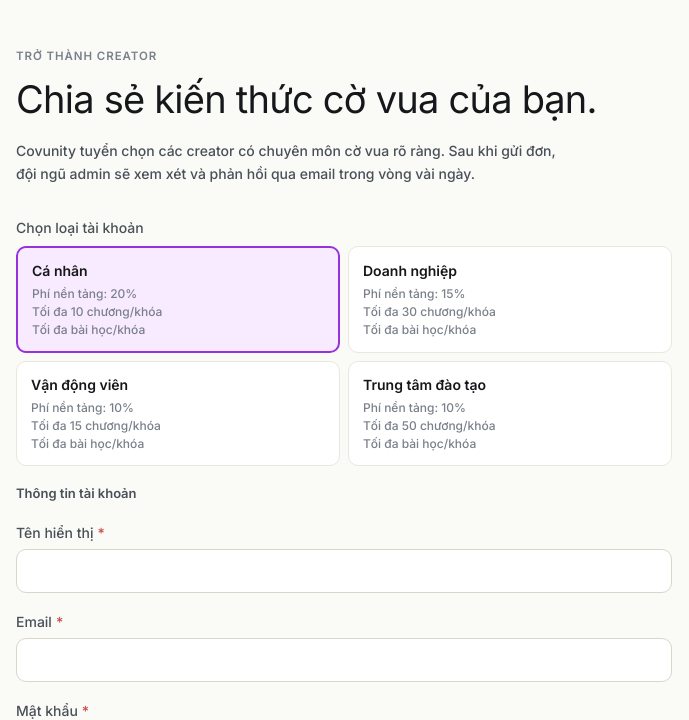
Test case: BecomeCreatorPage › tier selector › switching to athlete tier shows federation field
Click the button with test id "tier-card-athlete" at (80, 385), box 16,361 -> 340,466
(page scrolled)
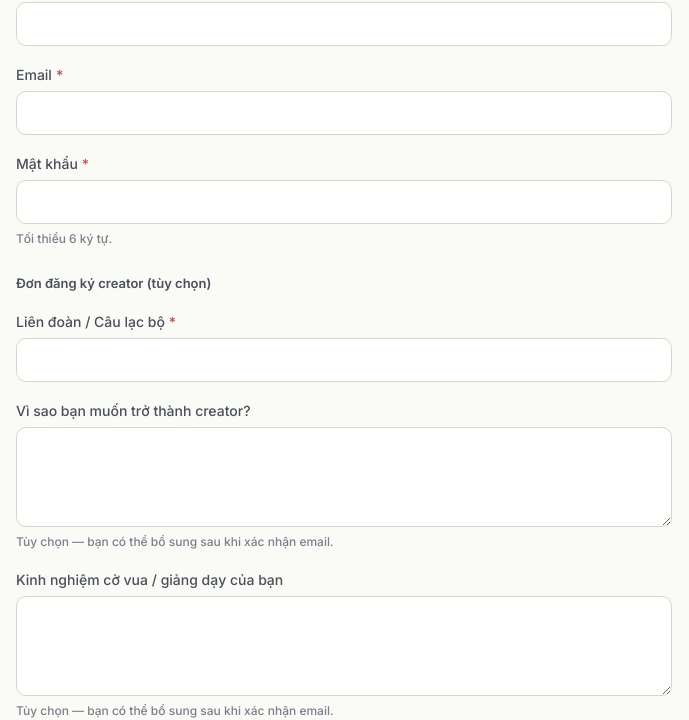
Now the field with test id "field-federation-or-team" is shown, box 16,338 -> 672,382
